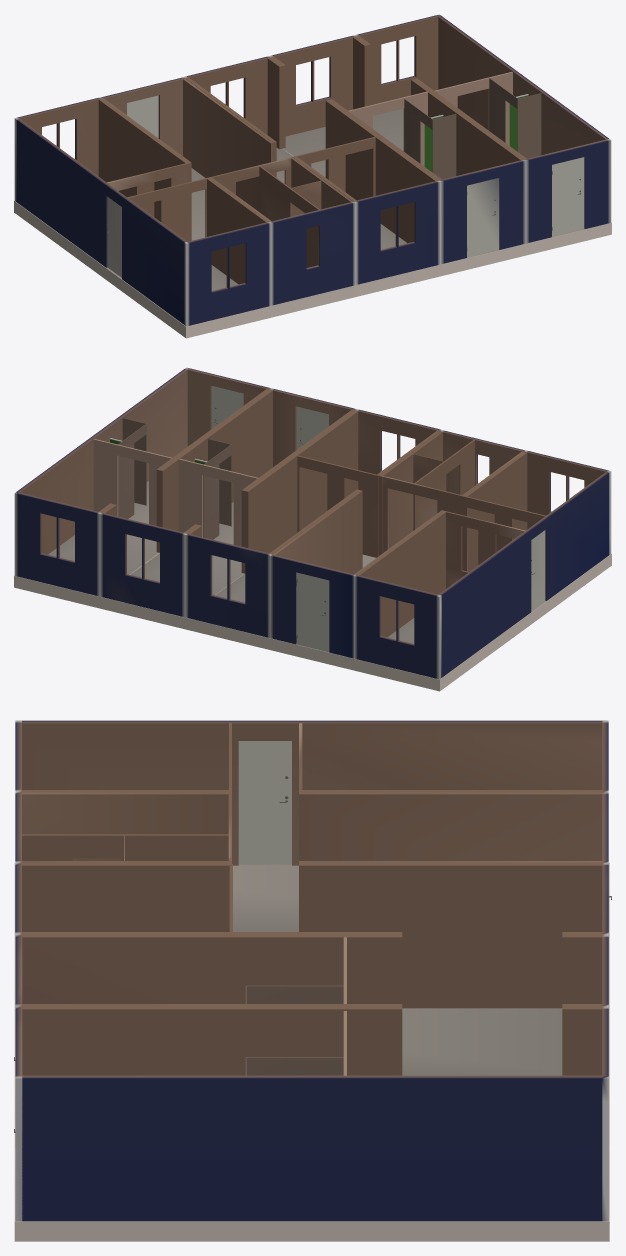
Rendered from BodTemplatePivotFix.fbx.
3 views of the same model, one above another, from view 1: azimuth 30°, elevation 25°; view 2: azimuth 150°, elevation 25°; view 3: azimuth 270°, elevation 25° (orthographic). The views are drawn at different scales.
Visible parts, largest first — view 1: ChaningRoom; view 2: ChaningRoom; view 3: ChaningRoom.
Boxes of the visible parts, x1,y1,x2,y2 form: ChaningRoom: (14, 14, 611, 338); ChaningRoom: (14, 367, 611, 691); ChaningRoom: (14, 720, 611, 1241).
Size of the model in its own units: 1293 by 274 by 910.
